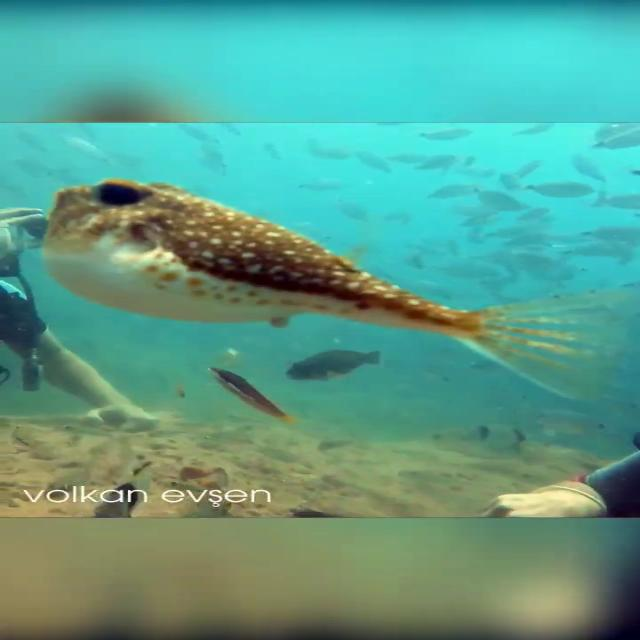Balon Baligi: (46, 179, 622, 404)
